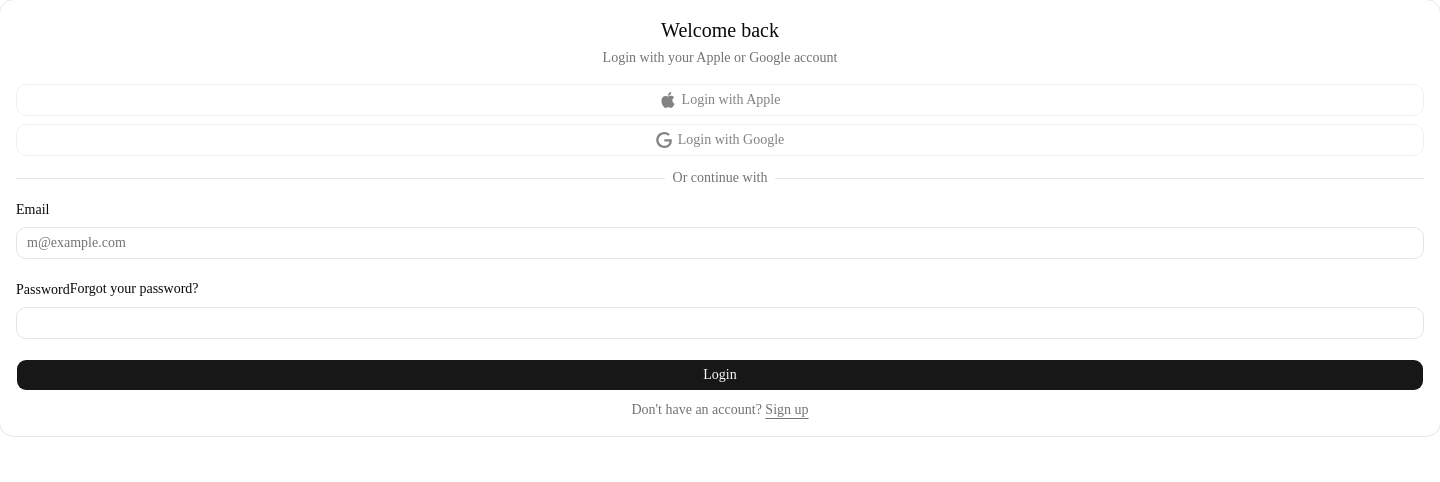
Scenario: LoginForm › puts a 422 field error from the server onto the matching input
Type "user@test.com" into the field labelled "Email" at (720, 243), box left=16, top=227, right=1424, bottom=259
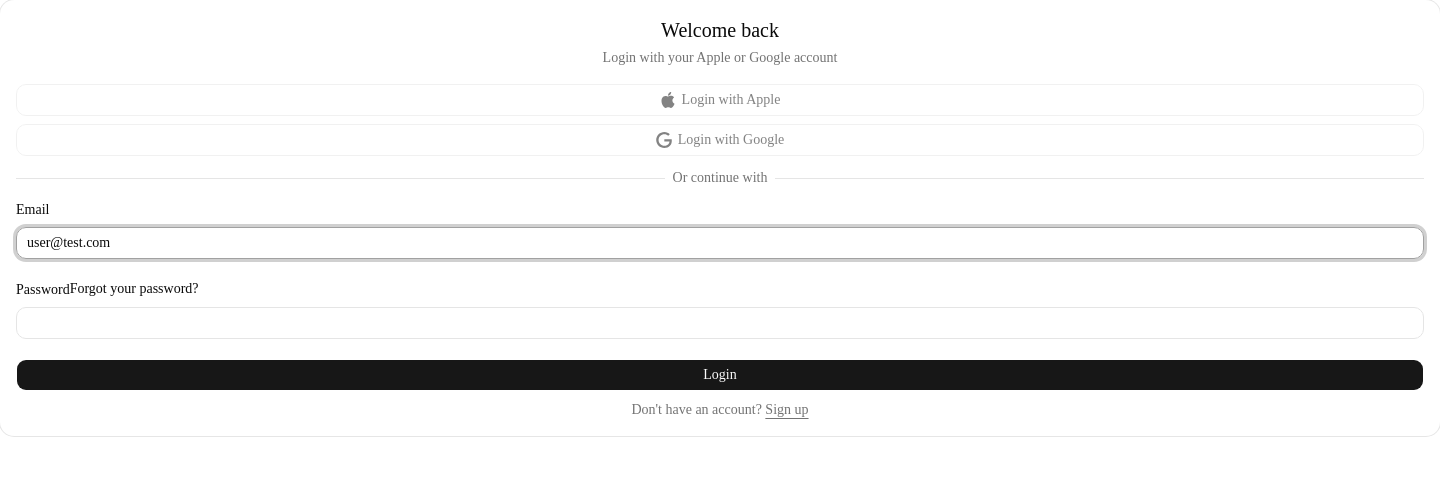
Type "secret123" into the password field labelled "Password" at (720, 323), box left=16, top=307, right=1424, bottom=339
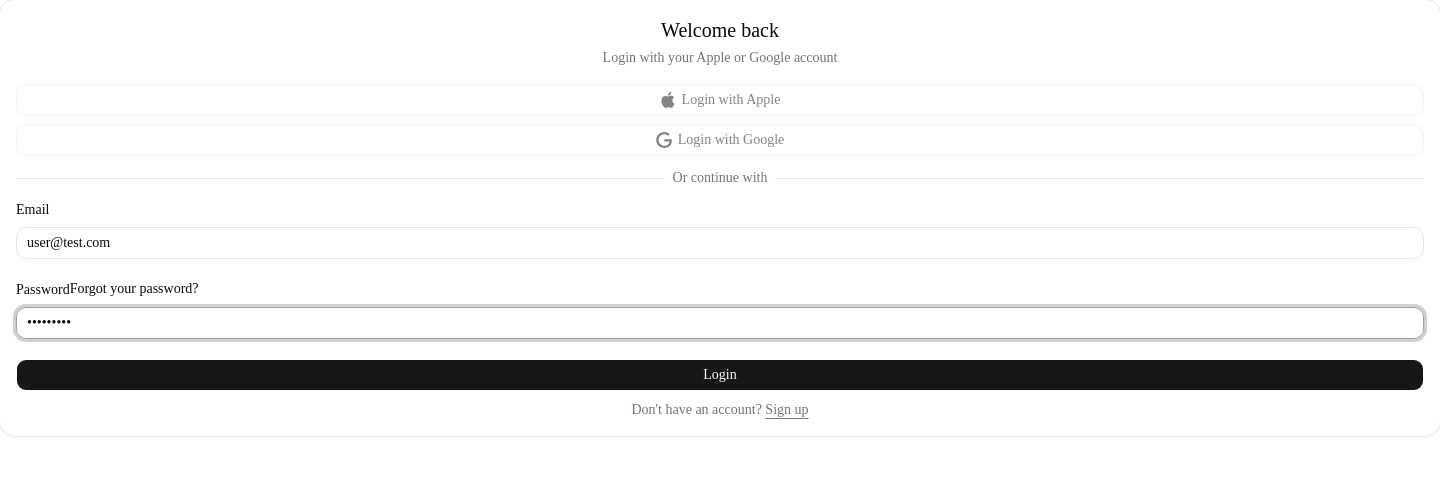
Click the button "Login" at (720, 375), box left=16, top=359, right=1424, bottom=391
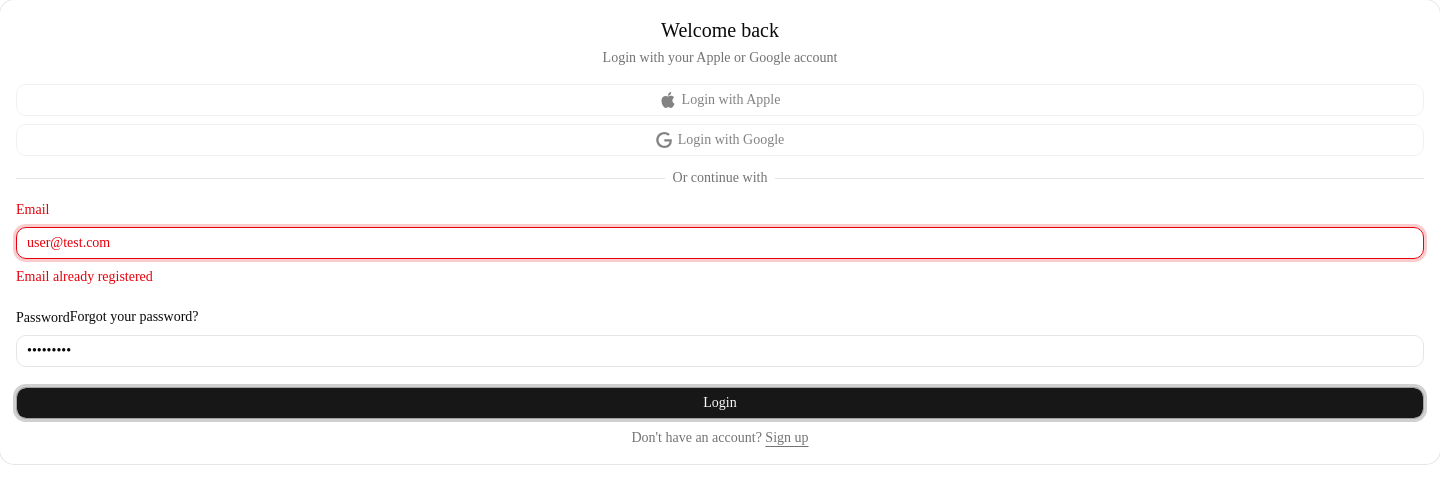
Expected: the text "Email already registered" is shown, left=16, top=269, right=153, bottom=284
